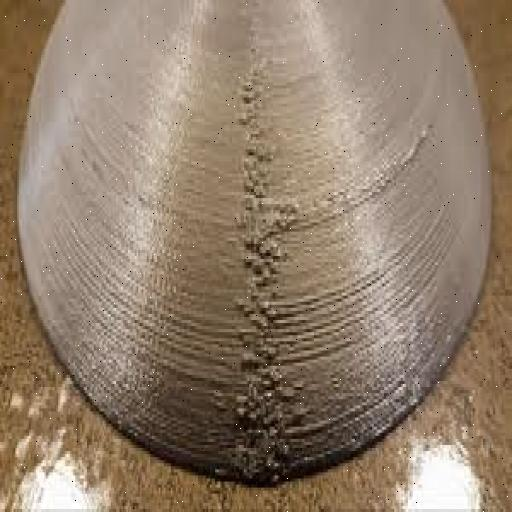blobs: (228, 48, 304, 489)
